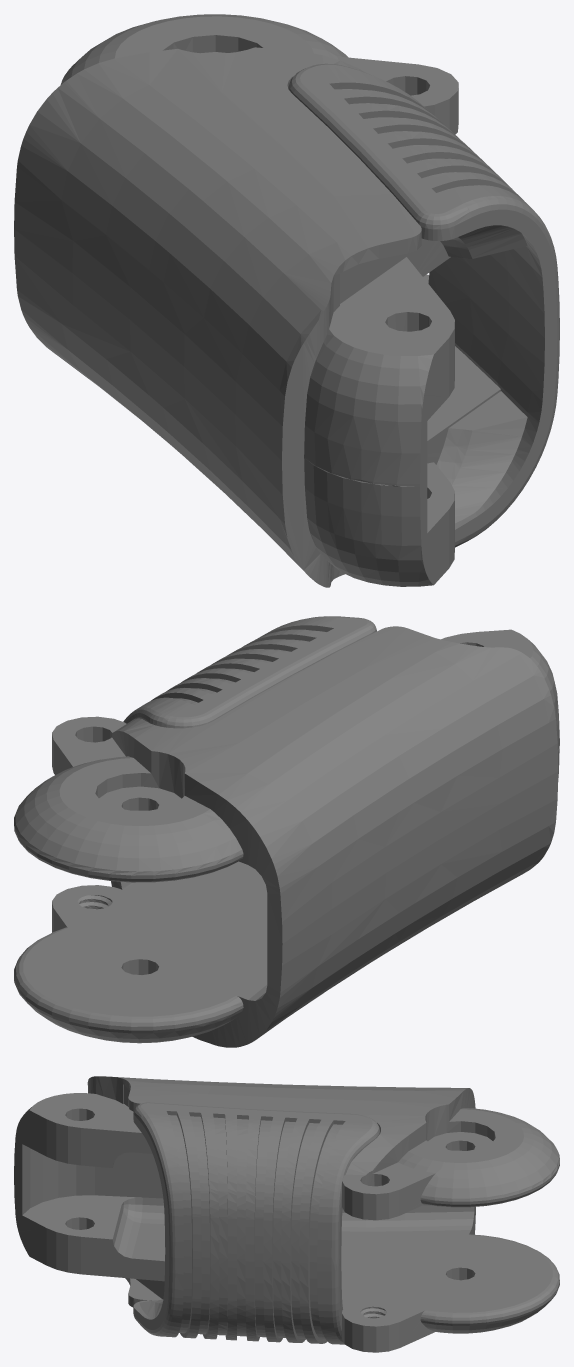
Rendered from rh_ring_middle_vis.obj.
3 views of the same model, one above another, from view 1: azimuth 30°, elevation 25°; view 2: azimuth 150°, elevation 25°; view 3: azimuth 270°, elevation 25° (orthographic). The views are drawn at different scales.
Visible parts, largest first — view 1: rh_ring_middle; view 2: rh_ring_middle; view 3: rh_ring_middle.
Part boxes in pixels (box(x1,y1,x2,y2)): rh_ring_middle: box(14, 14, 559, 587); rh_ring_middle: box(14, 616, 559, 1047); rh_ring_middle: box(14, 1076, 559, 1352).
Bounding box in the file's own units: 0.0196 × 0.016 × 0.0369.
Materials: 1 (1 with a texture image).
